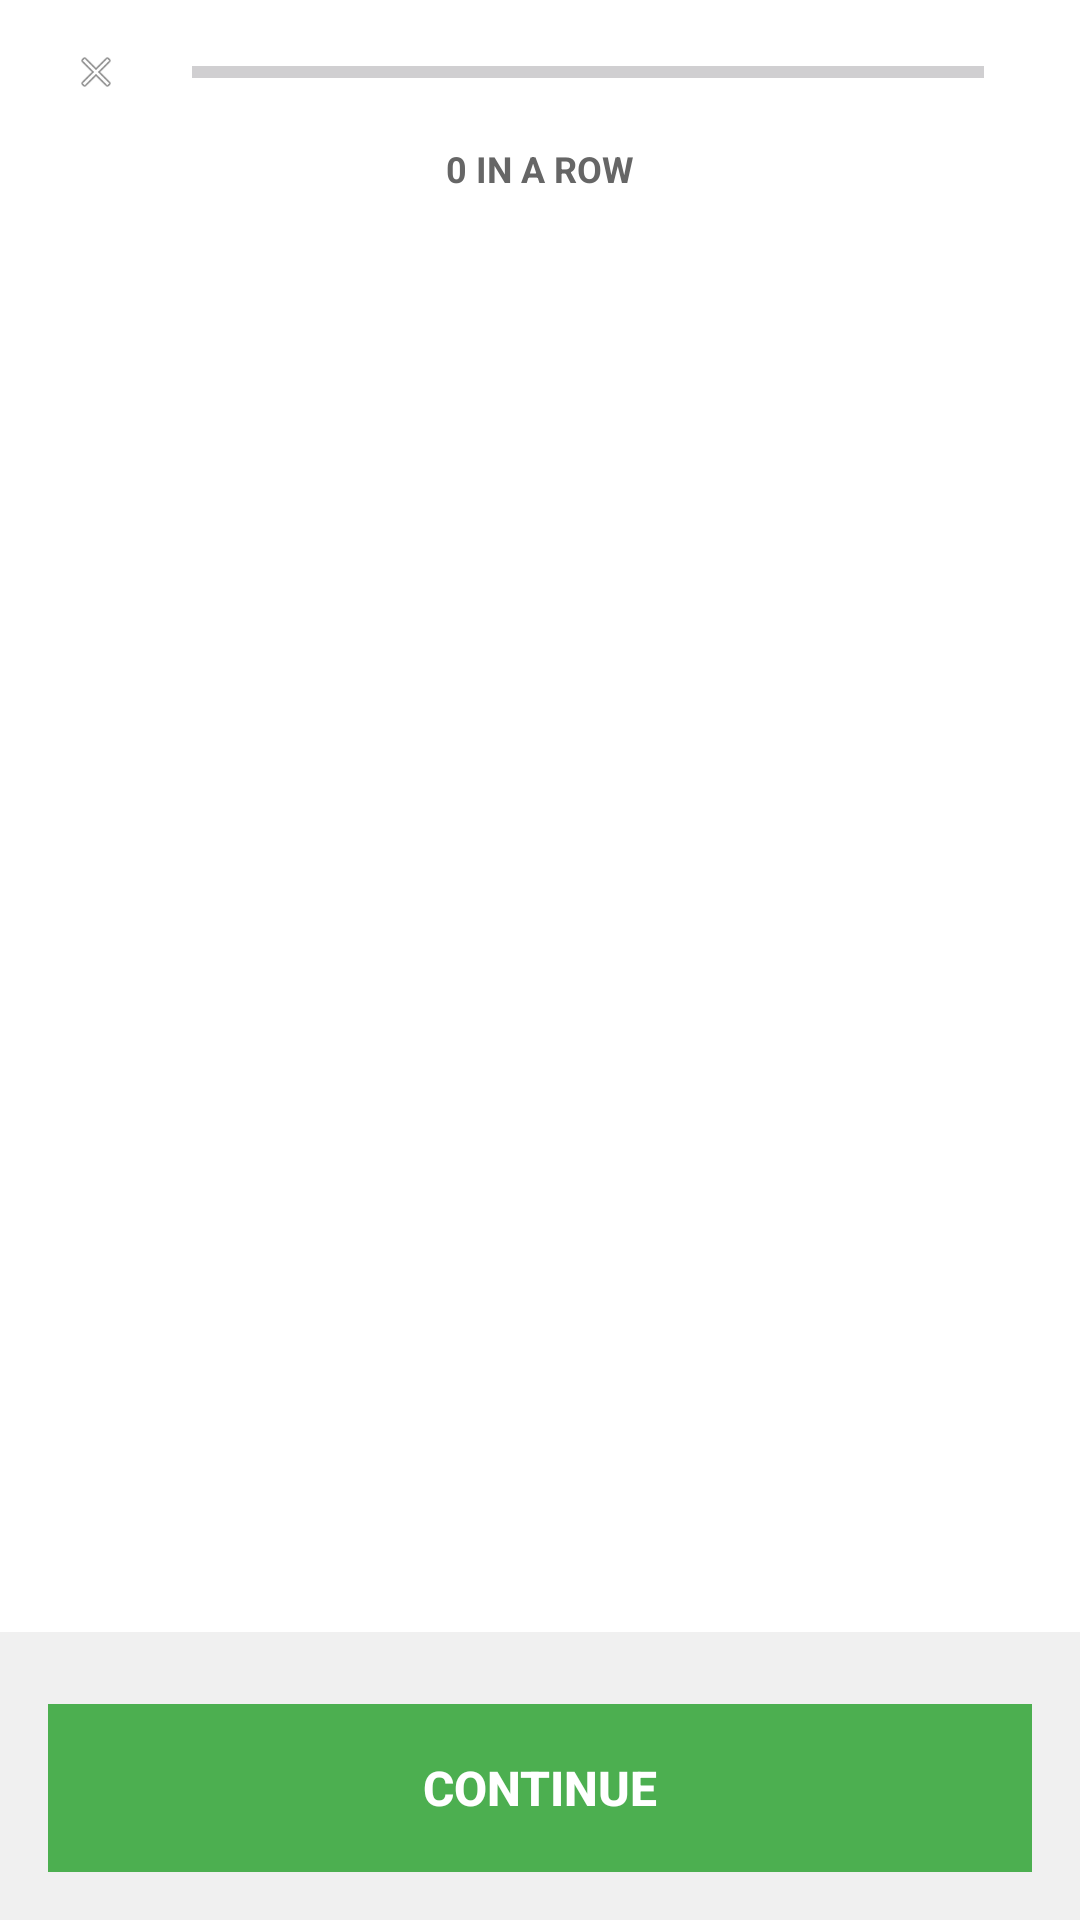

Icons on this 1080×1920 Android screen, each with its box as bbox=(x1, y1, x2, y2):
Close: bbox=(81, 57, 111, 87)
